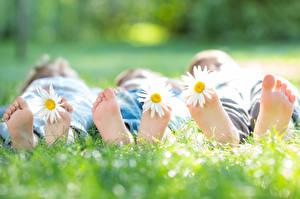chamomile: (133, 83, 173, 119), (183, 75, 216, 105), (41, 91, 65, 118)
